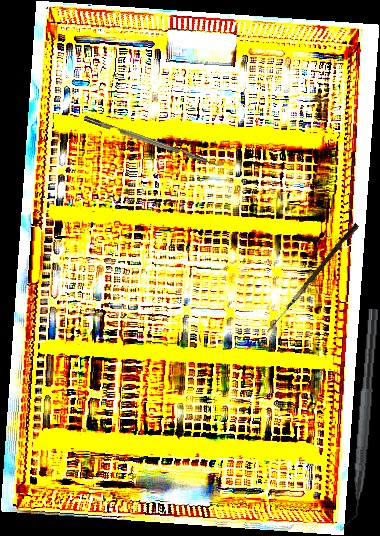Chopper: (337, 307, 380, 533), (83, 109, 227, 171)
Hook Surgical: (266, 221, 360, 337)
